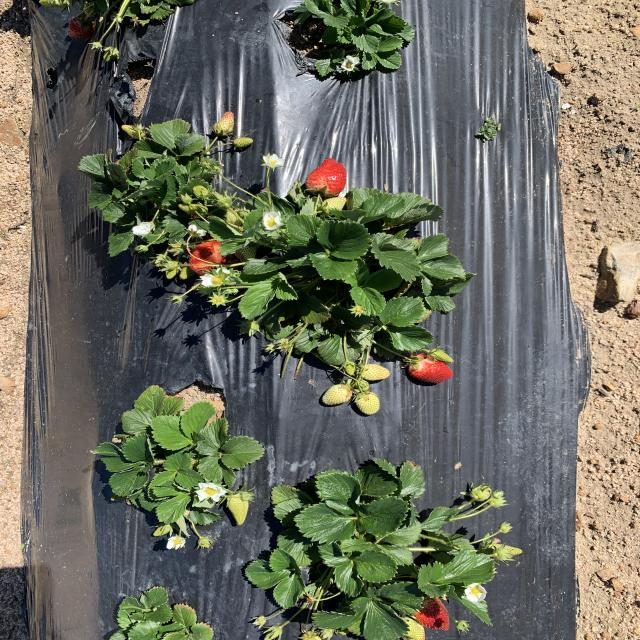unripe: (304, 157, 348, 199), (406, 592, 451, 632), (185, 244, 233, 275), (405, 355, 456, 384)
